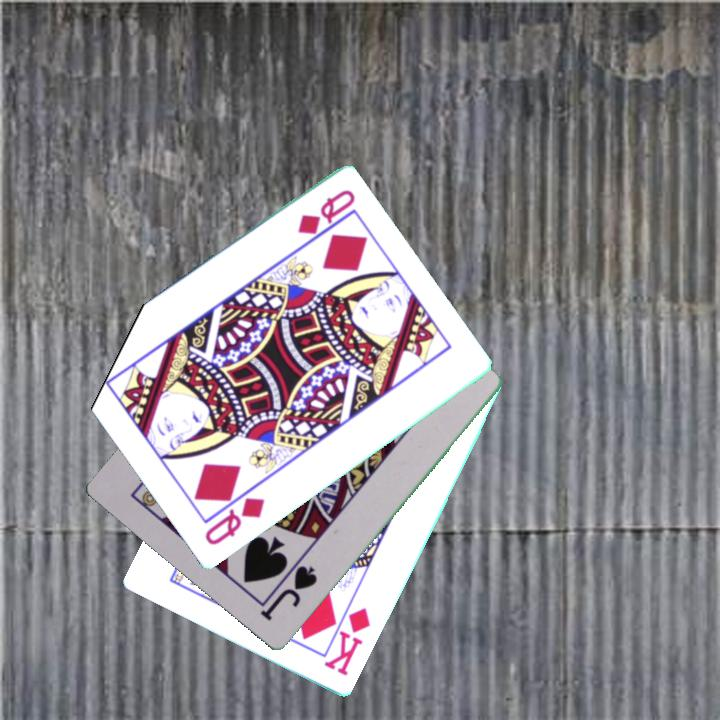Js: (256, 562, 321, 625)
Kd: (320, 598, 374, 680)
Qd: (201, 484, 268, 549), (294, 186, 358, 239)
